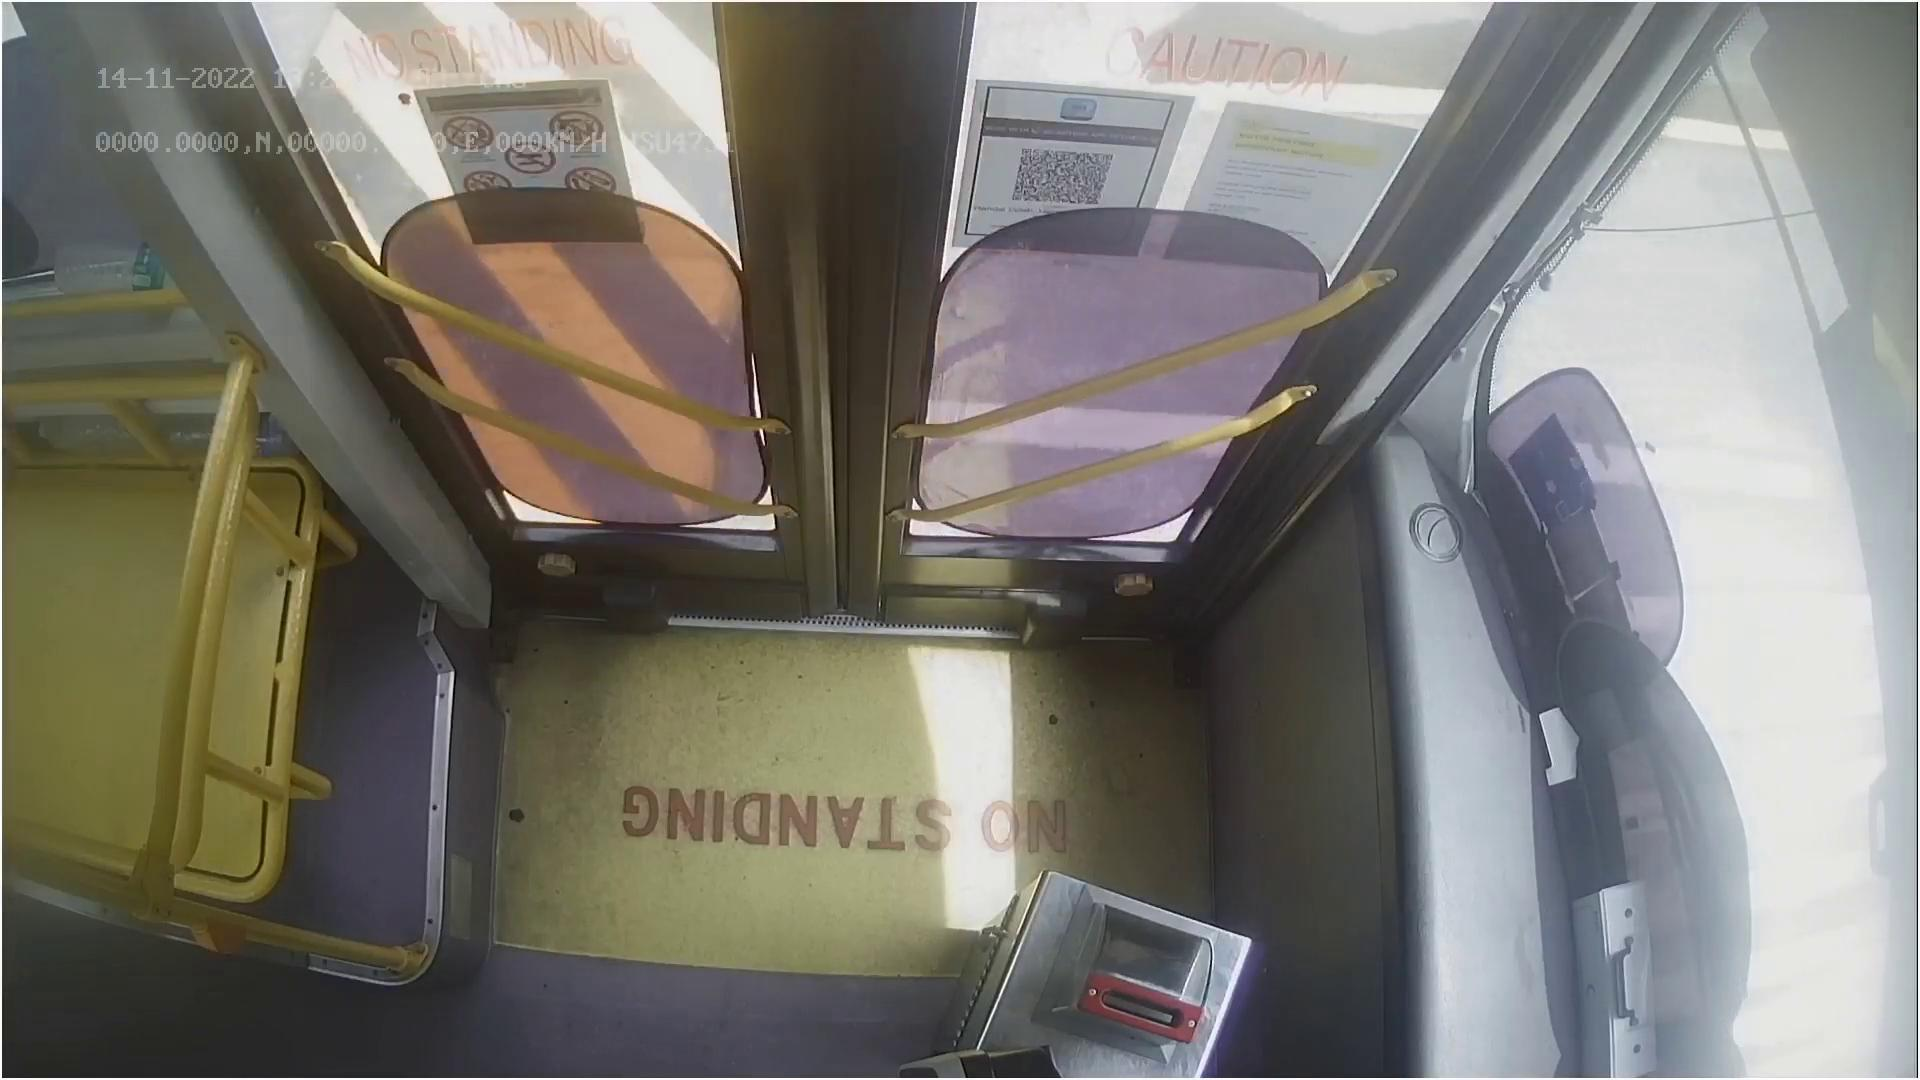close: (290, 0, 1448, 156)
